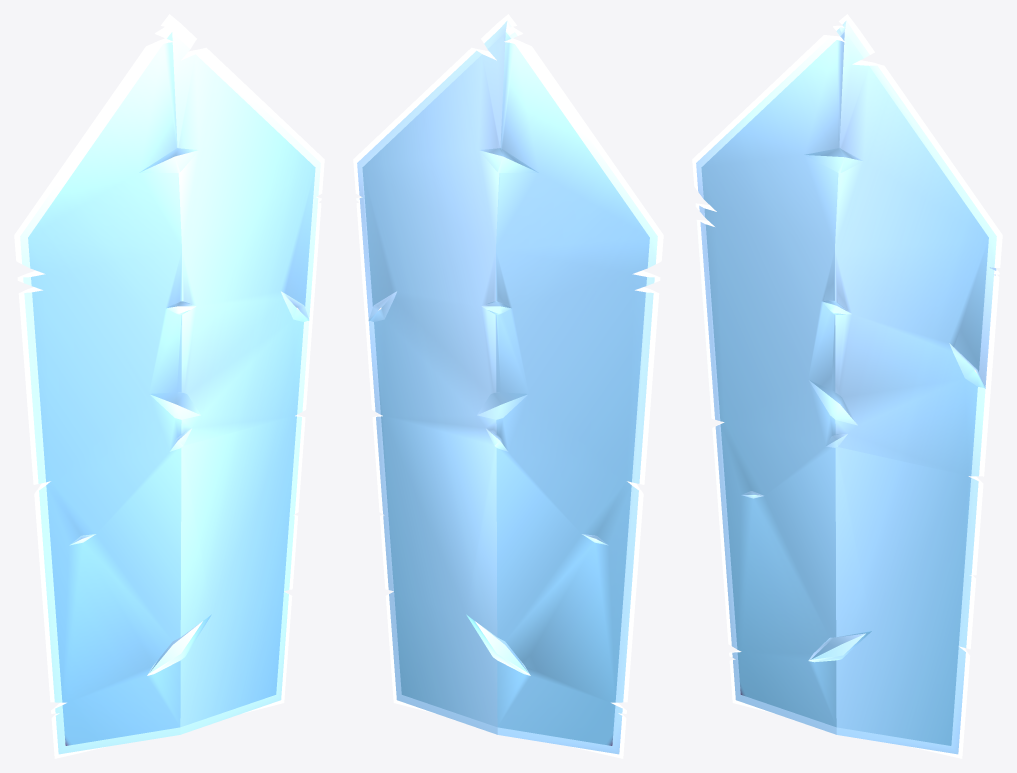
The model's file is steel_blade_scratched_042.glb.
3 views of the same model, side by side, from view 1: azimuth 30°, elevation 25°; view 2: azimuth 150°, elevation 25°; view 3: azimuth 330°, elevation 25° (orthographic).
Parts seen in each view (by area): view 1: steel_blade_scratched.042; view 2: steel_blade_scratched.042; view 3: steel_blade_scratched.042.
Boxes of the visible parts, x1,y1,x2,y2 form: steel_blade_scratched.042: (14,14,324,758); steel_blade_scratched.042: (353,14,663,758); steel_blade_scratched.042: (692,14,1002,758).
Size of the model in its own units: 5.17 by 11.43 by 0.7262.
Materials: 1 (1 with a texture image).
